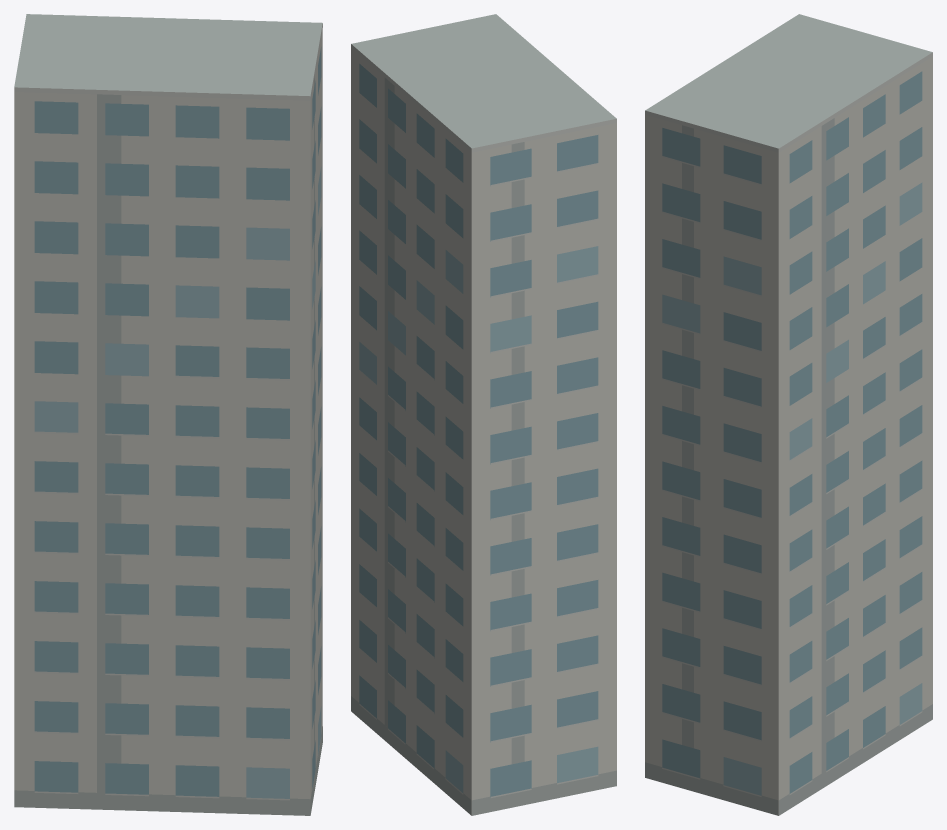
Rendered from residential-85f1f162-4a3e-4f64-8975-523b8514e29a.glb.
The picture shows the model from 3 angles, left to right: view 1: azimuth 30°, elevation 25°; view 2: azimuth 150°, elevation 25°; view 3: azimuth 270°, elevation 25°; orthographic projection. The views are drawn at different scales.
Visible parts, largest first — view 1: residential-85f1f162-4a3e-4f64-8975-523b8514e29a.tmp; view 2: residential-85f1f162-4a3e-4f64-8975-523b8514e29a.tmp; view 3: residential-85f1f162-4a3e-4f64-8975-523b8514e29a.tmp.
Boxes of the visible parts, bbox=[...] form: residential-85f1f162-4a3e-4f64-8975-523b8514e29a.tmp: bbox=[14, 14, 322, 815]; residential-85f1f162-4a3e-4f64-8975-523b8514e29a.tmp: bbox=[351, 14, 616, 815]; residential-85f1f162-4a3e-4f64-8975-523b8514e29a.tmp: bbox=[645, 14, 932, 815].
Bounding box in the file's own units: 16.88 × 39 × 15.25.
